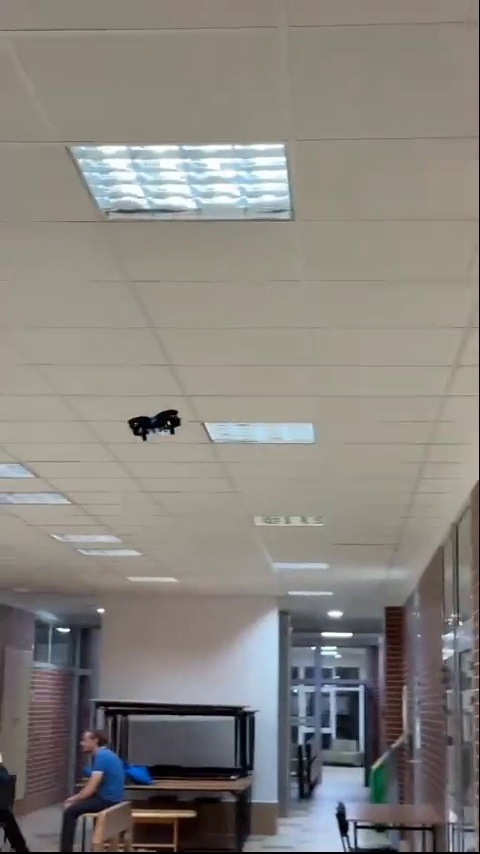drone: (129, 407, 176, 442)
no vest: (66, 728, 129, 815)
